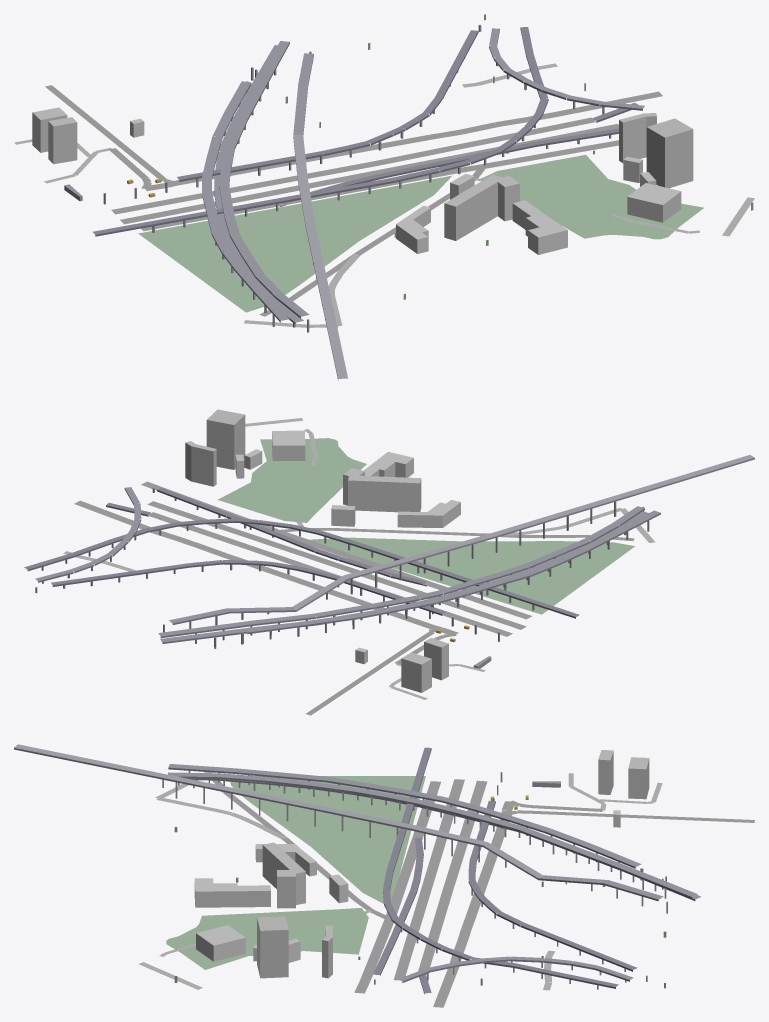
3 views of the same model, one above another, from view 1: azimuth 30°, elevation 25°; view 2: azimuth 150°, elevation 25°; view 3: azimuth 270°, elevation 25° (orthographic). The views are drawn at different scales.
Size of the model in its own units: 595 by 67.15 by 727.
